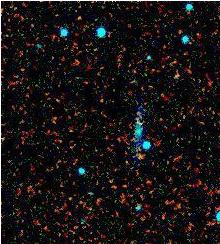star: (126, 141, 156, 171)
